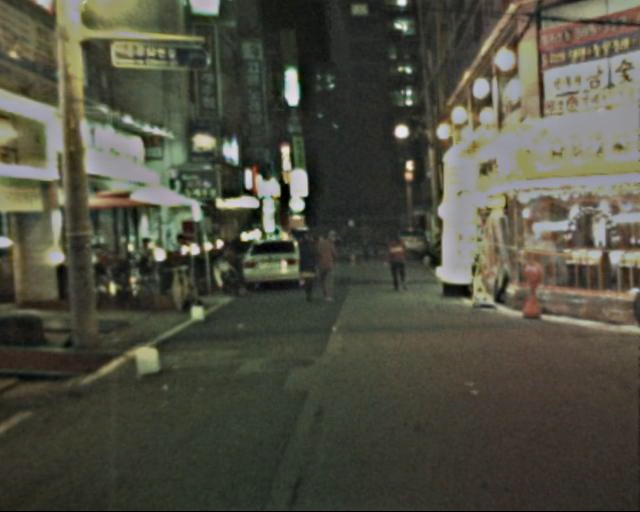person: (312, 224, 344, 307), (293, 226, 324, 307), (386, 226, 416, 297), (342, 218, 364, 271), (362, 225, 384, 264)
